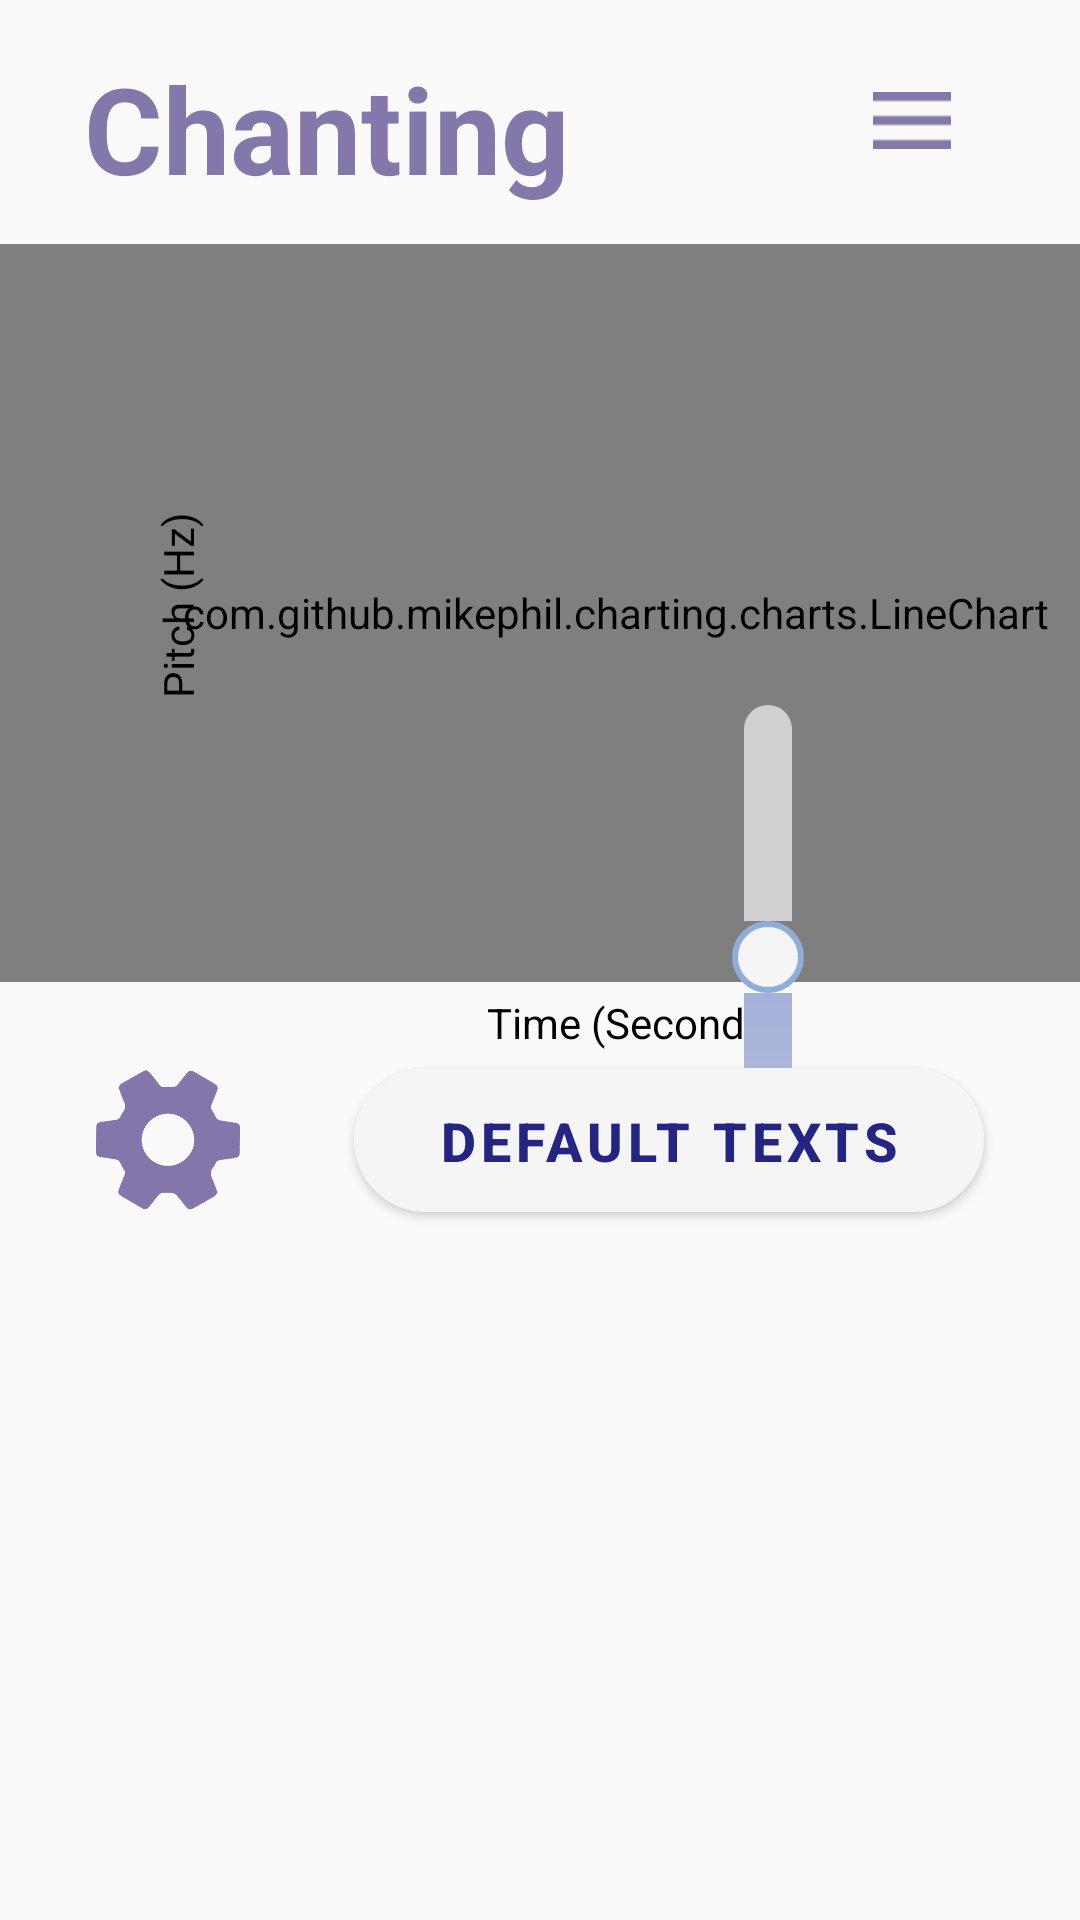

Icon bounding boxes for this 1080w x 1920h phone screenshot, format region(x1, y1, x2, y2):
The button to pull up the menu on the exercises pages: region(873, 92, 951, 149)
The Settings Button: region(96, 1070, 240, 1210)
